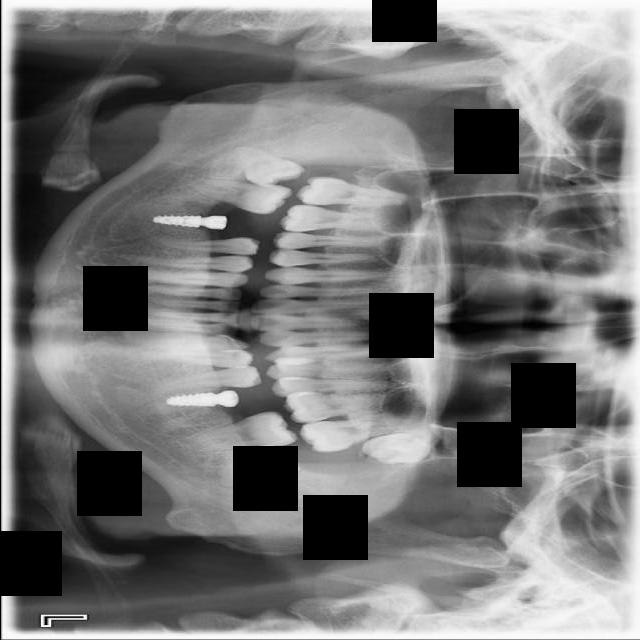73: (56, 592, 69, 598)
BioHorizons Implant: (297, 408, 414, 457)
BioLife Implant: (358, 424, 445, 473)
Biomet 3i Implant: (211, 438, 301, 491)
Blue Sky Bio Implant: (185, 409, 298, 453)
Caries: (294, 175, 408, 209)
Implant: (183, 176, 293, 217)
Keystone Dental Implant: (224, 140, 306, 201)
